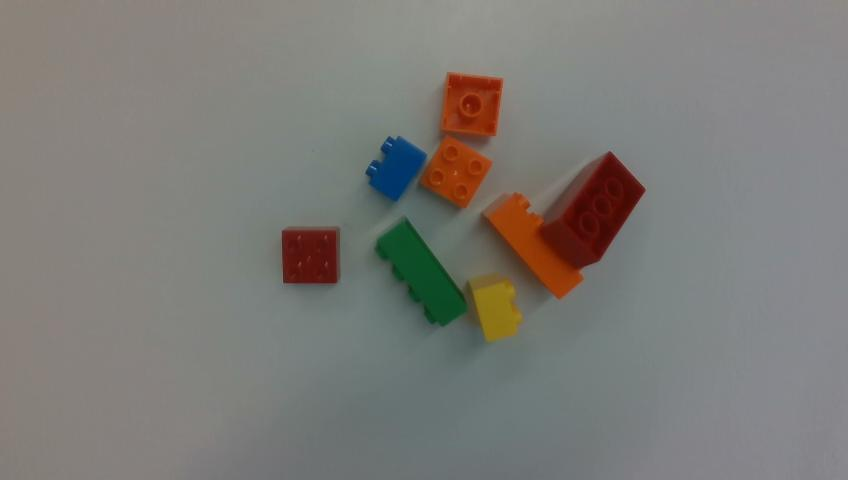2x2_blue: (366, 136, 426, 201)
2x2_orange: (420, 135, 491, 207), (442, 72, 502, 135)
2x2_red: (283, 227, 338, 282)
2x2_yellow: (467, 273, 522, 340)
4x2_green: (376, 217, 467, 325)
4x2_orange: (483, 193, 582, 298)
4x2_red: (539, 152, 644, 268)
